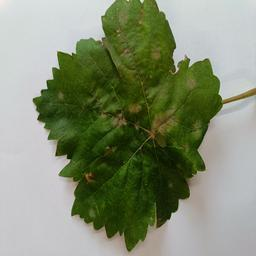Powdery-Mildew: (114, 8, 147, 59)
